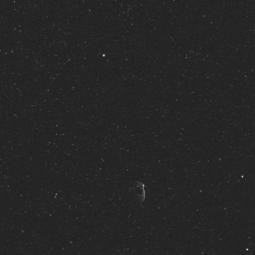debris: (125, 175, 154, 206)
